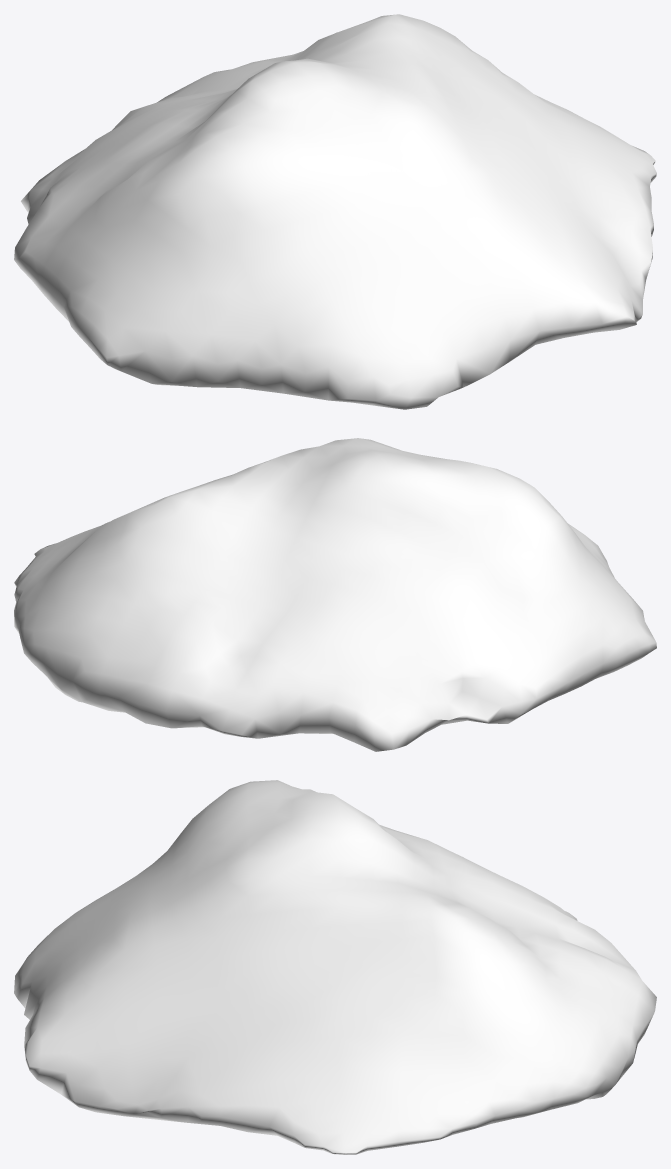
File: snow_pile01.fbx
3 renders of one model, top to bottom at view 1: azimuth 30°, elevation 25°; view 2: azimuth 150°, elevation 25°; view 3: azimuth 270°, elevation 25°, orthographic. The views are drawn at different scales.
Visible parts, largest first — view 1: UV Sphere; view 2: UV Sphere; view 3: UV Sphere.
Boxes of the visible parts, x1,y1,x2,y2 form: UV Sphere: [14, 14, 656, 409]; UV Sphere: [14, 438, 656, 751]; UV Sphere: [14, 780, 656, 1154].
Bounding box in the file's own units: 1.91 × 0.6466 × 1.82.
Materials: 1 (1 with a texture image).
